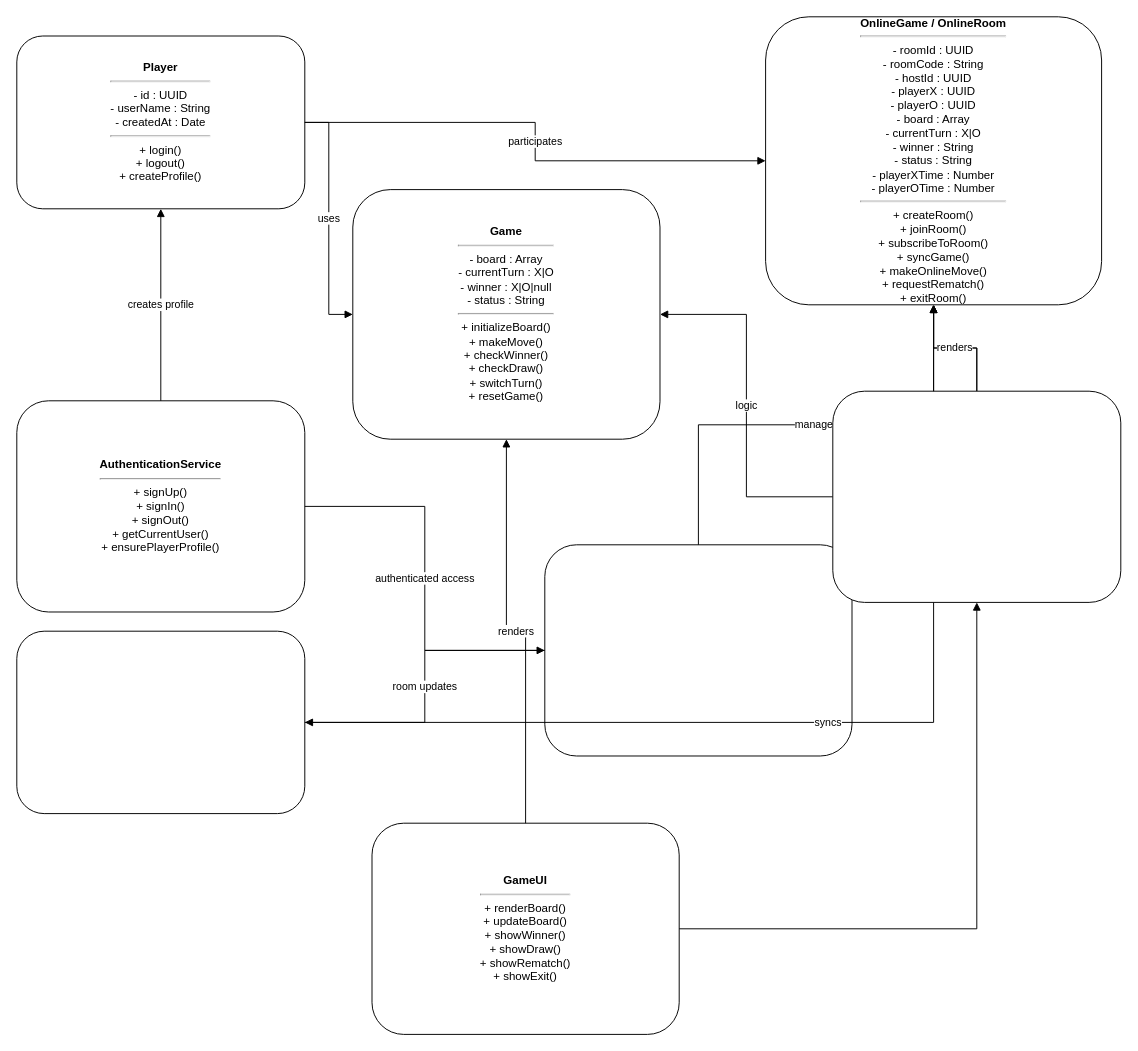
Some shapes in this 1138 by 1051 pixel diagram are drawn without their labels. Here are the shapes that lost their labels. From the top down, the box of each, then its label:
(832, 390, 1121, 602): GameService + checkWinner() + checkDraw() + makeMove() + resetGame()
(544, 544, 852, 756): RoomService + createRoom() + joinRoom() + getRoom() + updateRoom() + leaveRoom()
(16, 630, 305, 814): RealtimeService + handleRoomUpdate()
